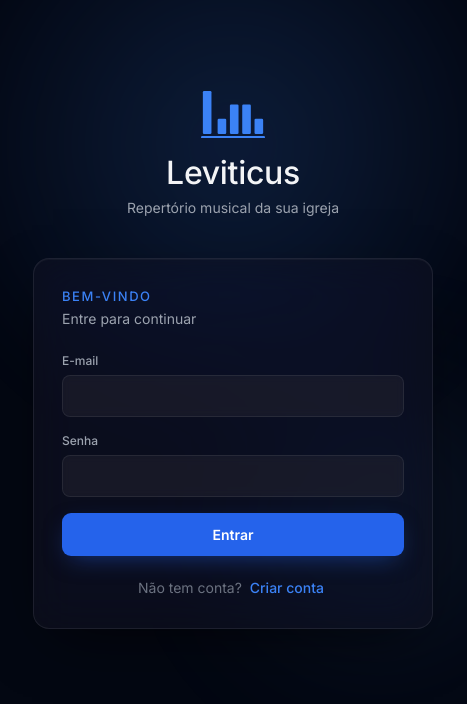
it: Login › sign up › shows friendly fallback message when sign-up returns an unexpected error
Step 1. Click the button "Criar conta" → (287, 588), box 246,576 -> 328,600
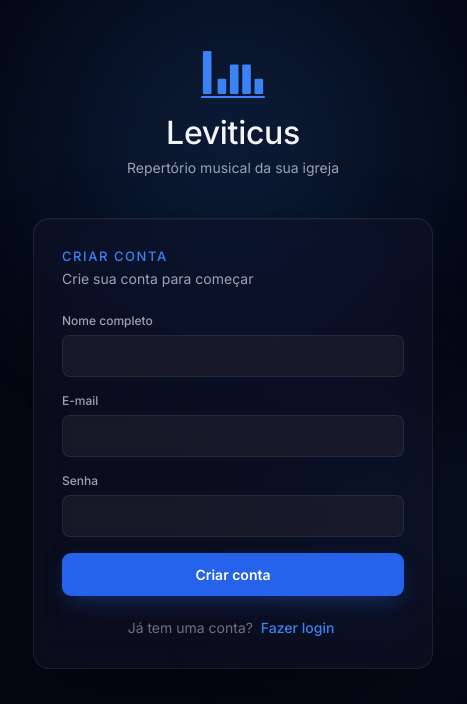
Step 2. Type "João Teste" into the field labelled "Nome completo" → (233, 356), box 62,336 -> 404,378
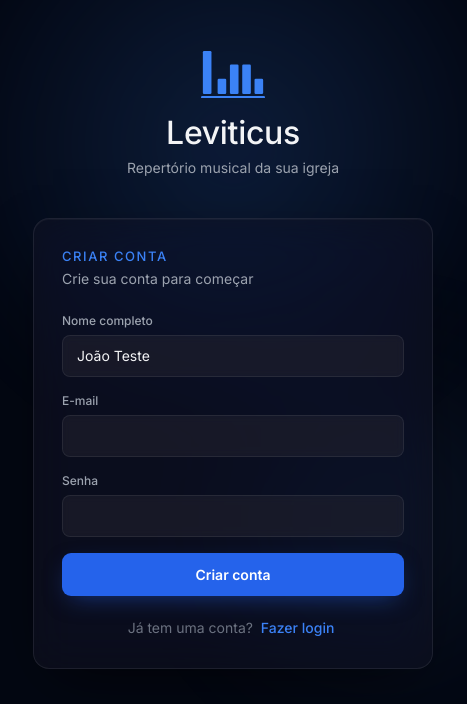
Step 3. Type "novo@test.com" into the field labelled "E-mail" → (233, 436), box 62,416 -> 404,458
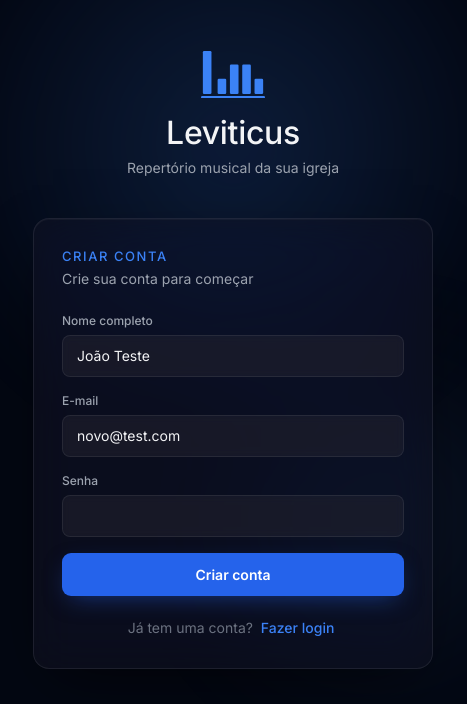
Step 4. Type "senha123" into the password field labelled "Senha" → (233, 516), box 62,496 -> 404,538
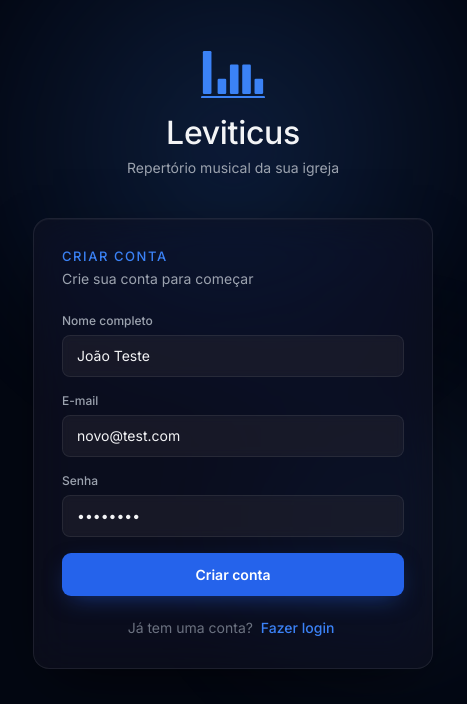
Step 5. Click the button "Criar conta" → (233, 575), box 62,554 -> 404,596
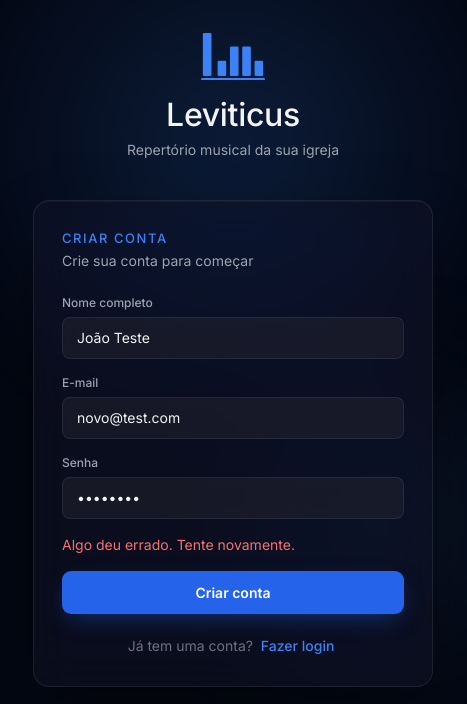
Expected: the message reads "Algo deu errado. Tente novamente.", 62,536 -> 295,554
